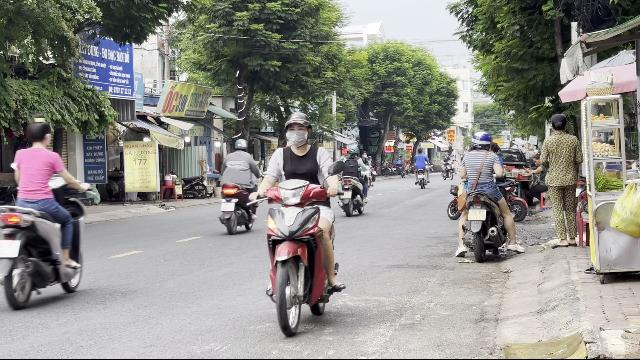helmet: (282, 112, 312, 146), (471, 132, 492, 150), (232, 137, 248, 151)
licenseplate: (0, 240, 20, 258), (468, 210, 487, 220), (222, 203, 234, 211)
motorcyclist: (256, 110, 348, 332), (0, 117, 88, 307), (448, 130, 520, 262), (216, 137, 260, 233)
nohelmet: (24, 118, 52, 148)
